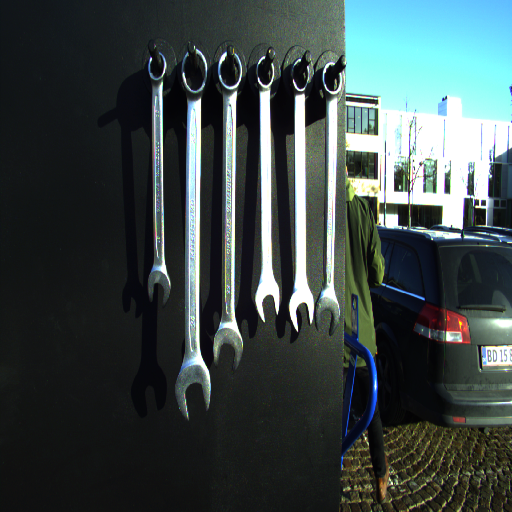bottom: (173, 360, 212, 423), (208, 322, 245, 372), (252, 279, 283, 323), (288, 288, 315, 337), (313, 292, 340, 336), (145, 267, 172, 304)
top: (179, 47, 210, 100), (216, 49, 245, 99), (288, 56, 312, 94), (320, 59, 343, 98), (144, 51, 170, 85), (253, 54, 276, 92)
